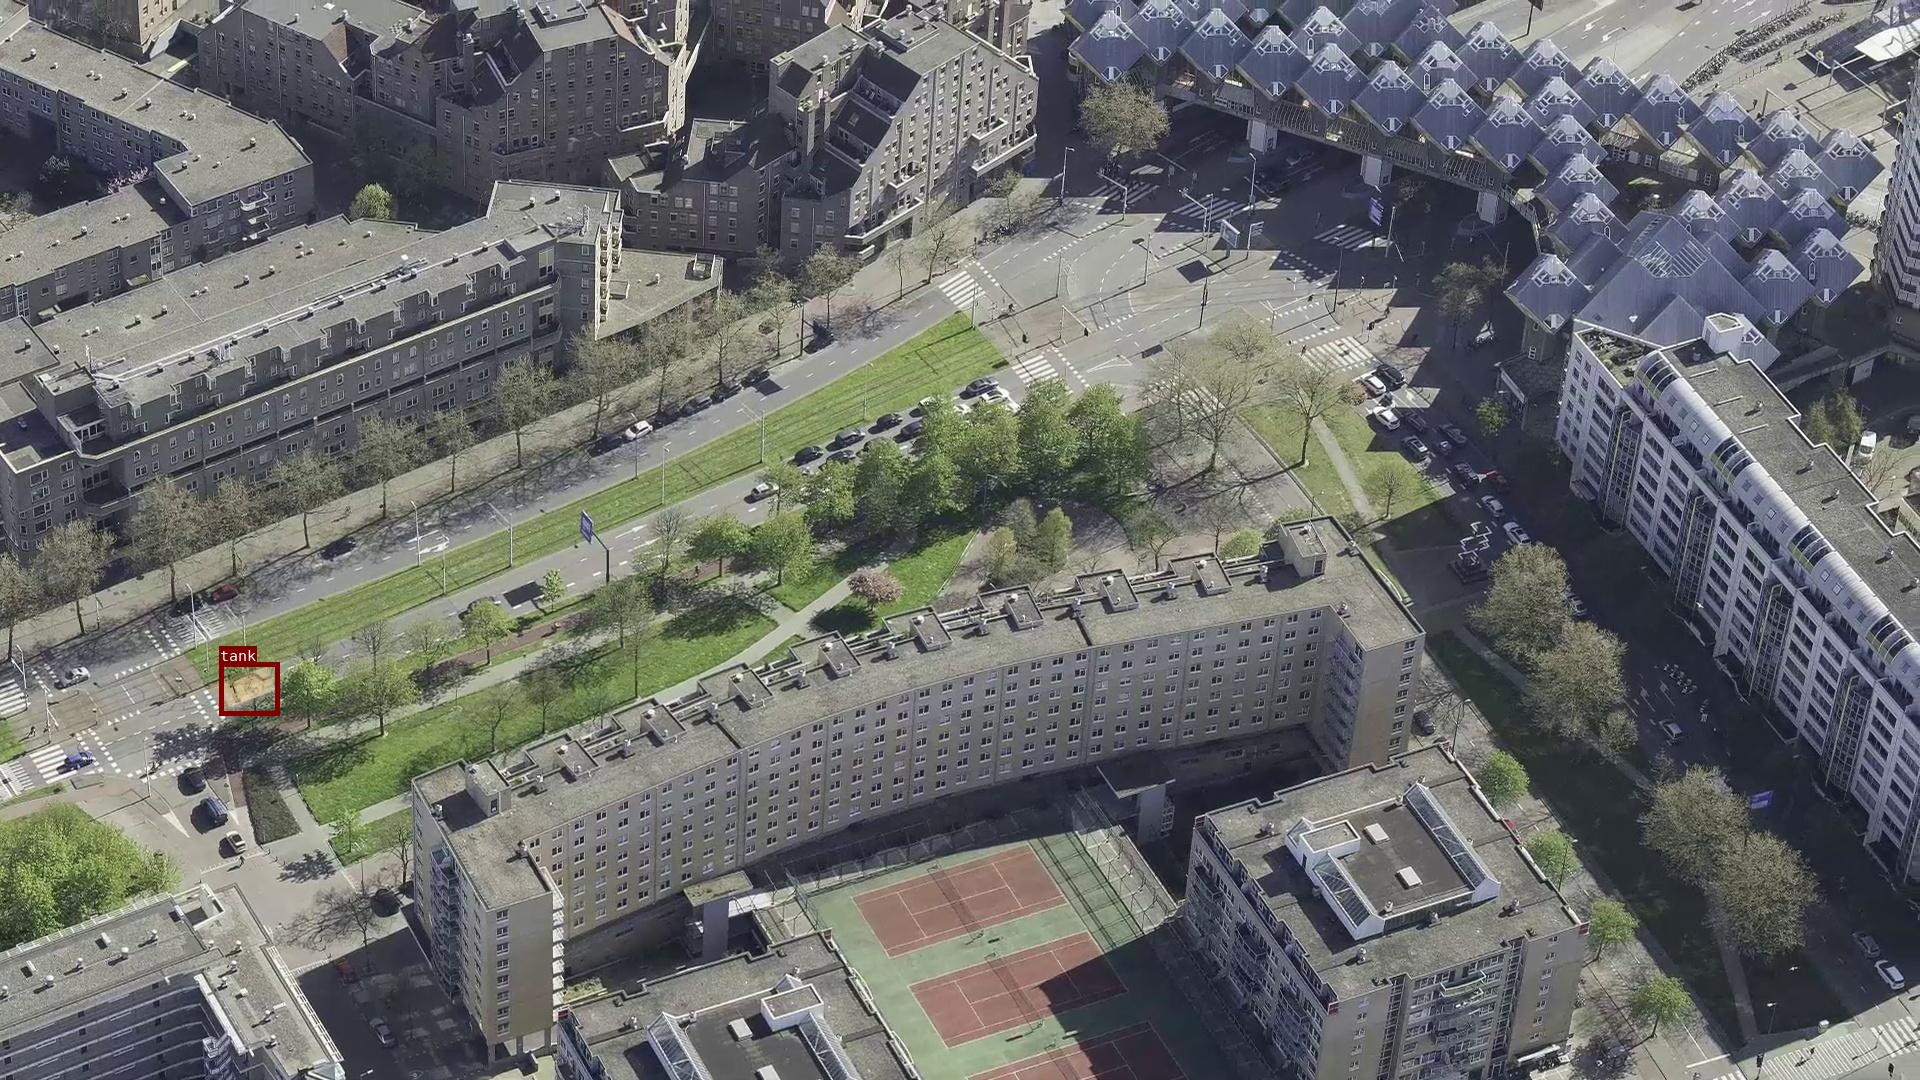tank: (219, 662, 280, 715)
